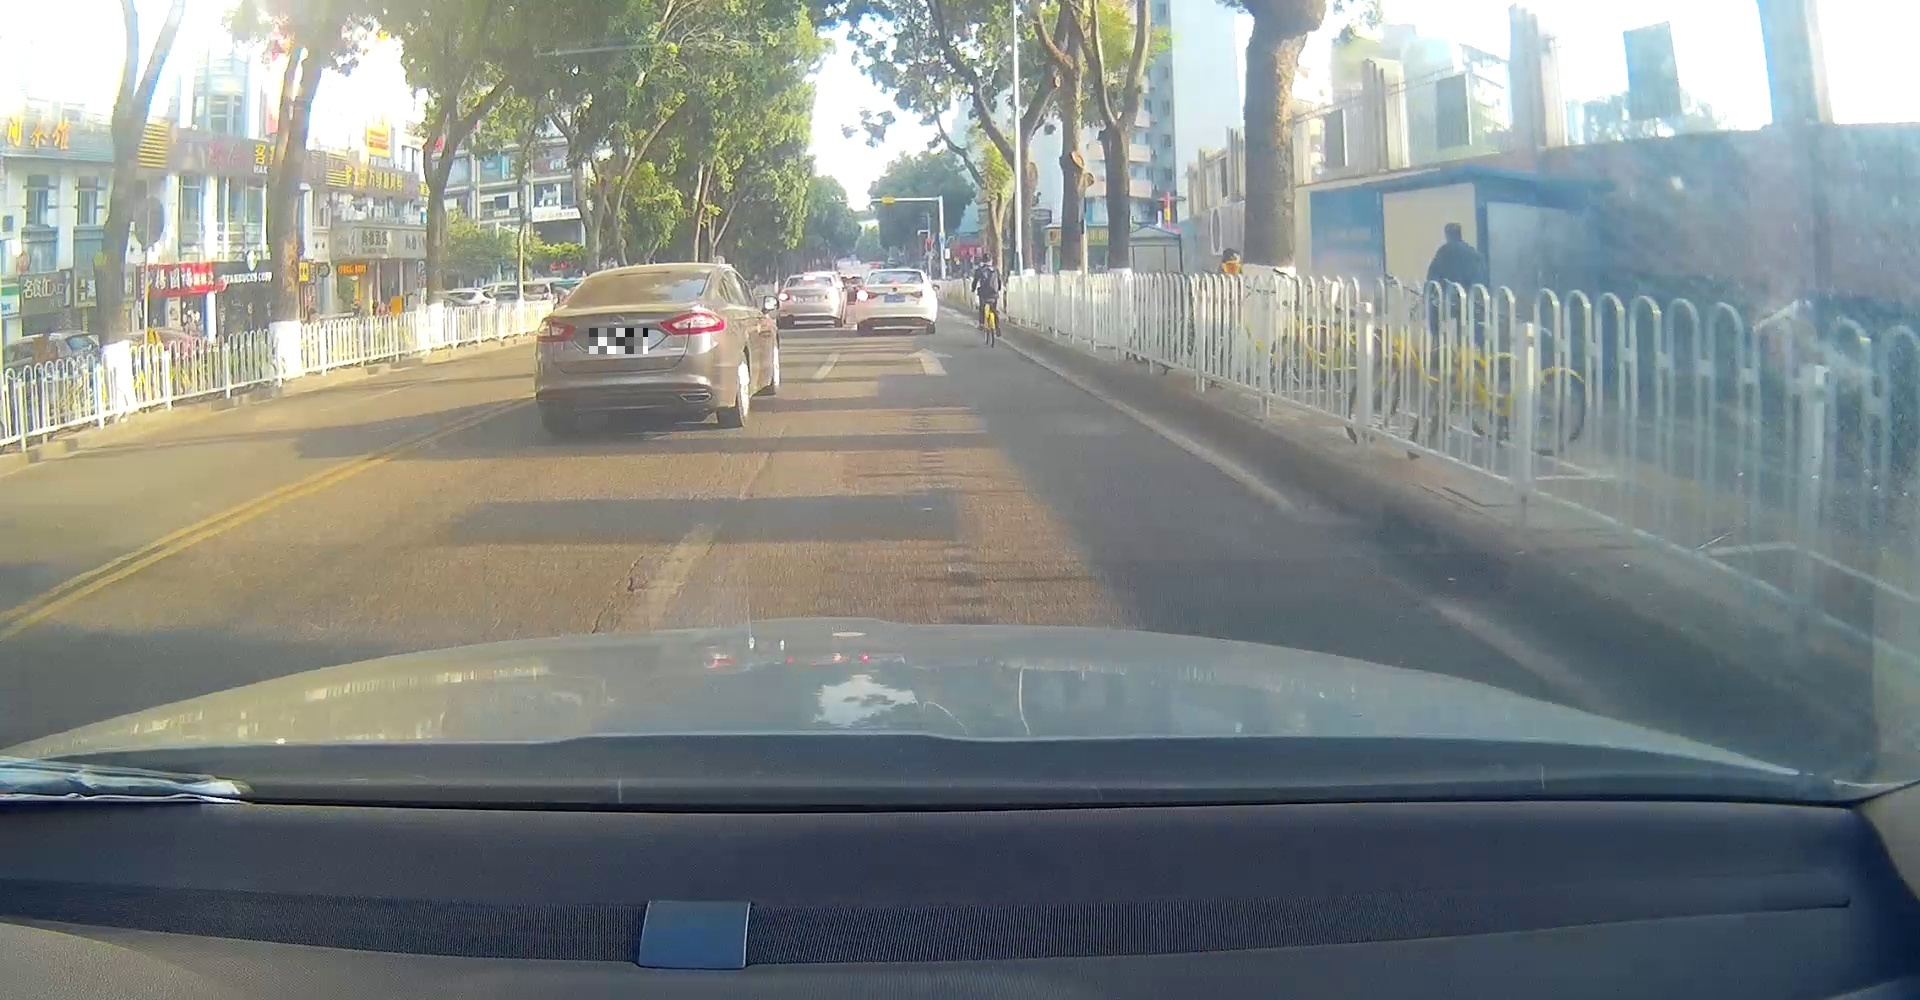L_light: (535, 317, 577, 343), (855, 289, 871, 301), (777, 291, 792, 302)
R_light: (659, 311, 725, 336), (825, 289, 841, 299), (910, 291, 924, 299)
T_light: (623, 273, 658, 278), (803, 275, 817, 280), (890, 280, 902, 284)
day-brake: (775, 273, 842, 327)
day-left: (855, 269, 938, 336)
day-no: (535, 263, 725, 433)
plate_1: (589, 327, 648, 354)
